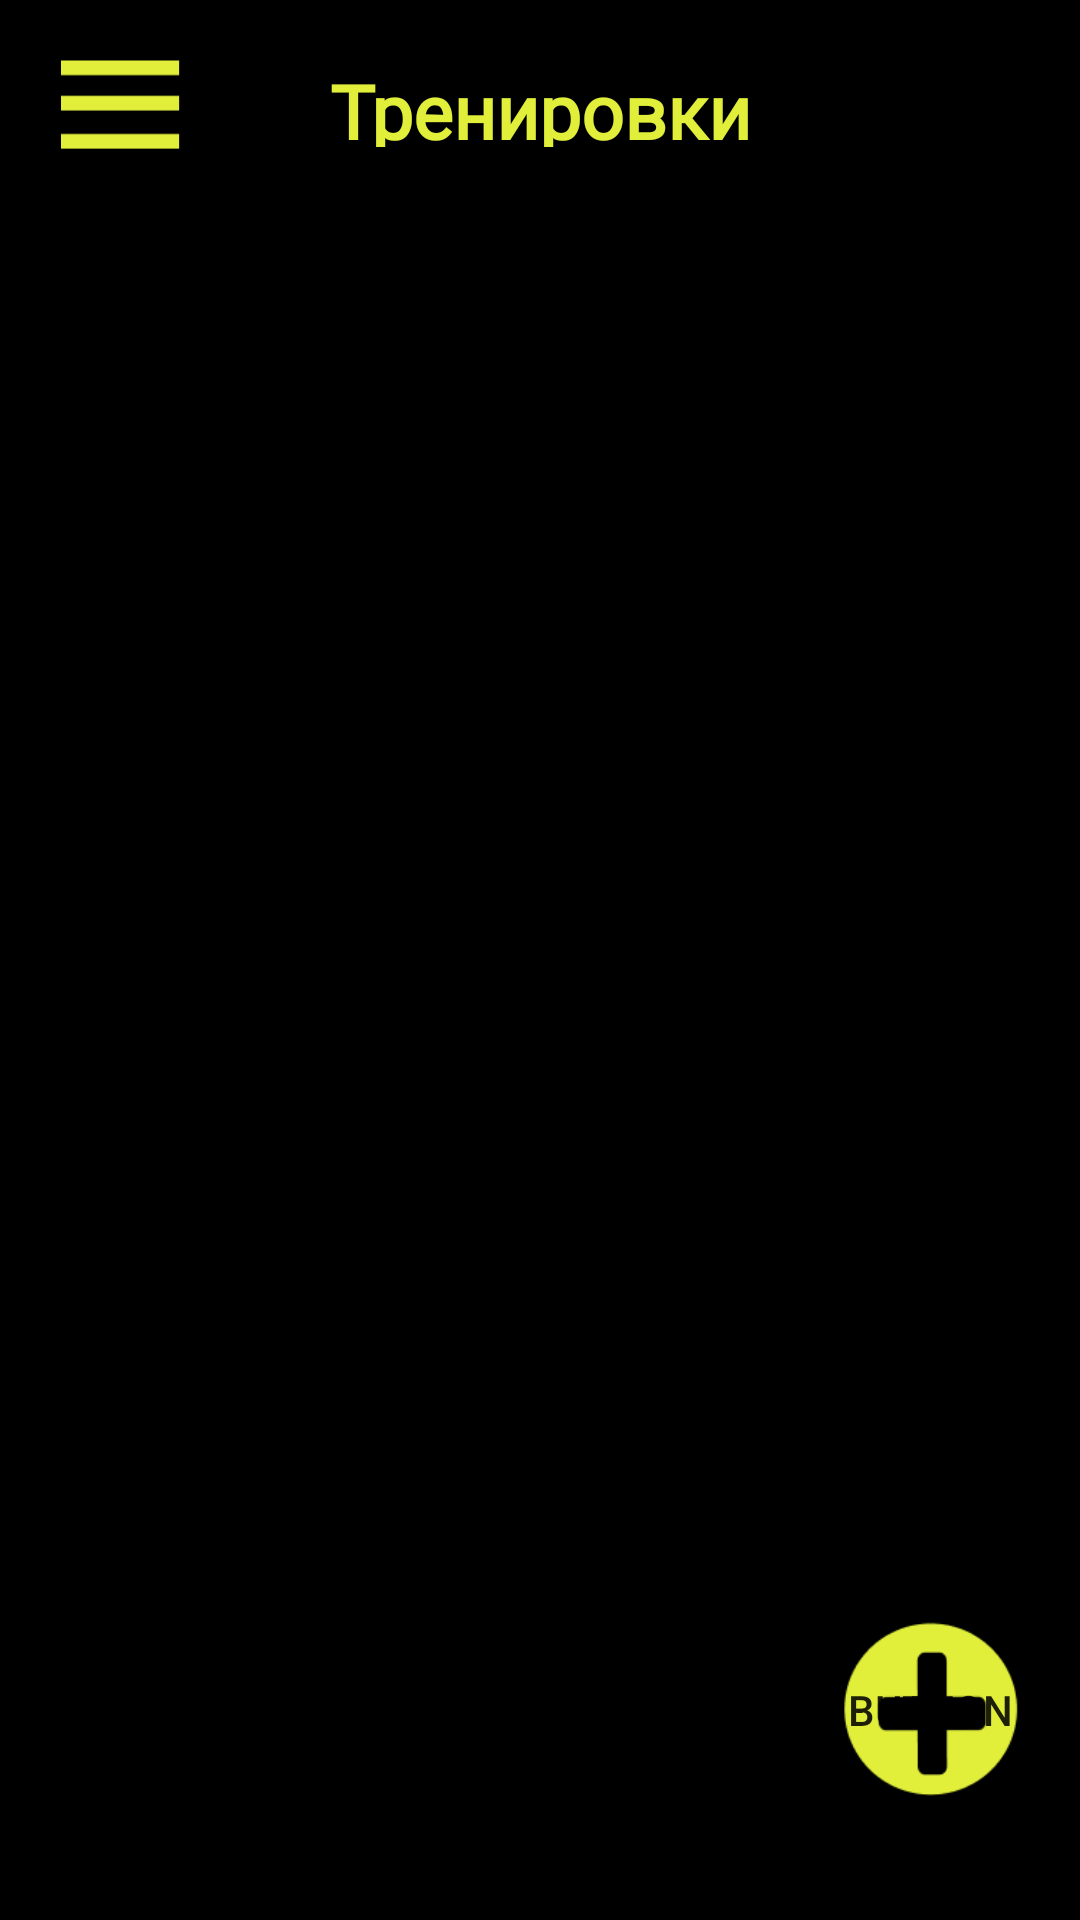

Icons on this 1080*1920 Android screen, each with its box as (left=x1, top=y1, right=x2, bottom=y2):
menu: (left=61, top=60, right=180, bottom=149)
